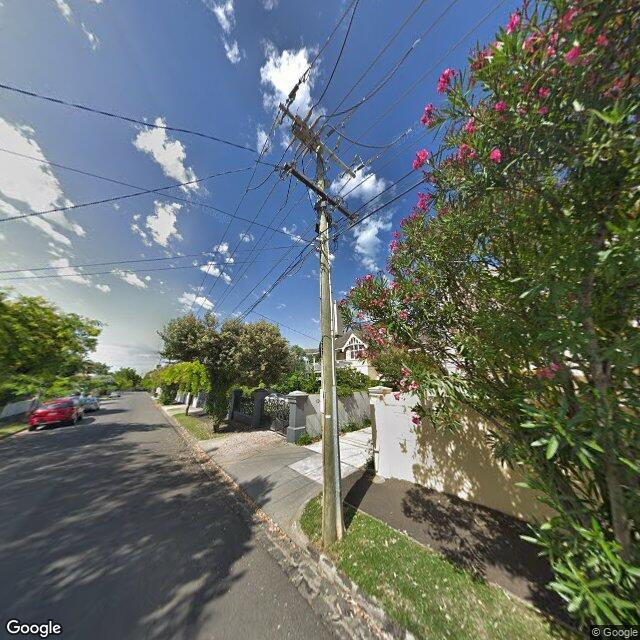HV-switch: (289, 108, 324, 156)
HV-transmission: (274, 84, 365, 171)
crossarm: (278, 102, 356, 178), (283, 162, 355, 223)
timber-pole: (316, 146, 348, 546)
